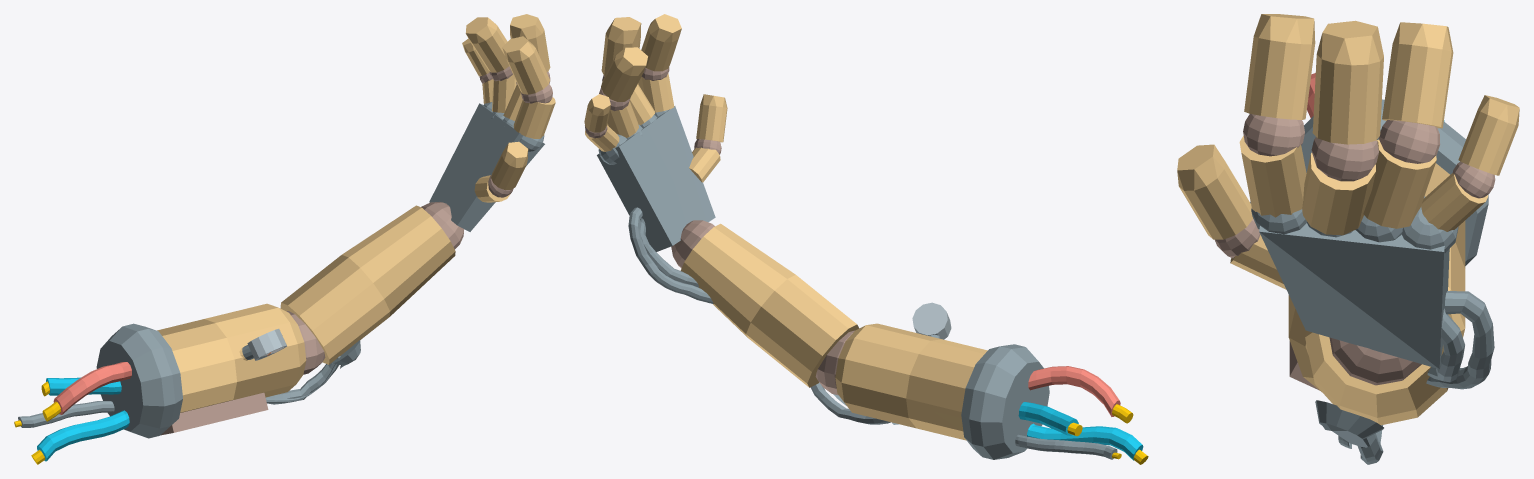
Rendered from arm.fbx.
3 views of the same model, side by side, from view 1: azimuth 30°, elevation 25°; view 2: azimuth 150°, elevation 25°; view 3: azimuth 270°, elevation 25° (orthographic). The views are drawn at different scales.
Visible parts, largest first — view 1: arm; view 2: arm; view 3: arm.
Part boxes in pixels (x1,y1,x2,y2): arm: (14, 14, 555, 464); arm: (584, 14, 1148, 464); arm: (1177, 14, 1519, 464).
Bounding box in the file's own units: 12.29 × 7.43 × 3.59.
